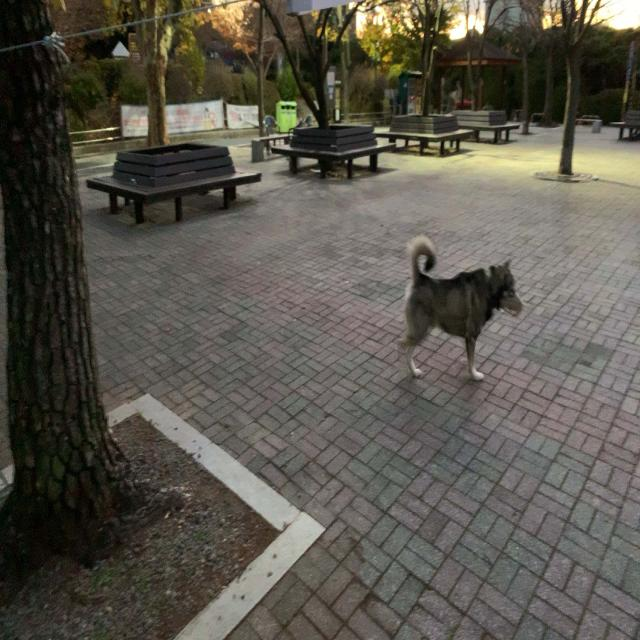Dog: (398, 233, 524, 382)
